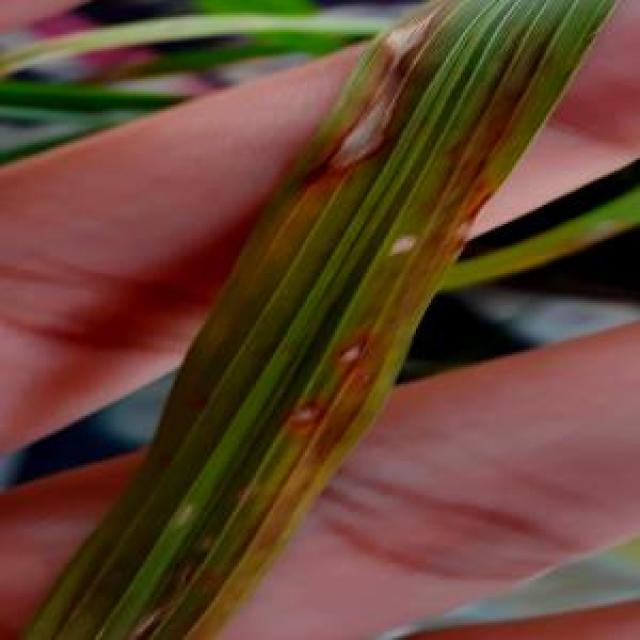Leaf_Blast: (284, 75, 418, 177), (348, 0, 463, 92), (258, 390, 341, 444), (322, 331, 397, 386), (378, 216, 428, 264)
